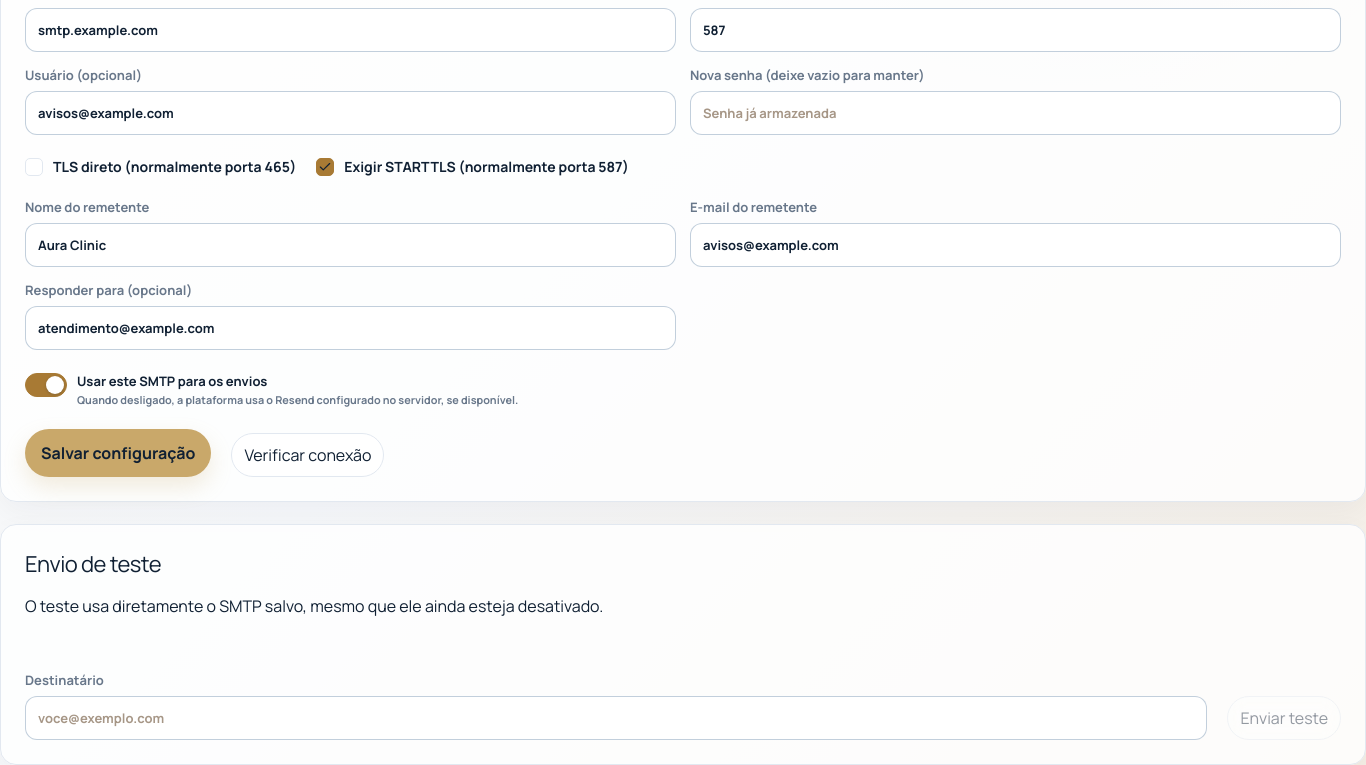
it: configuração SMTP da plataforma › carrega os dados sem devolver a senha e preserva a credencial ao salvar em branco
The image size is (1366, 765).
(page scrolled)
Expected: the password field labelled "Nova senha (deixe vazio para manter)" is empty, x1=690 y1=91 x2=1341 y2=135
Click the button "Salvar configuração".
click(118, 453)  # box x1=25 y1=429 x2=212 y2=477
(page scrolled)
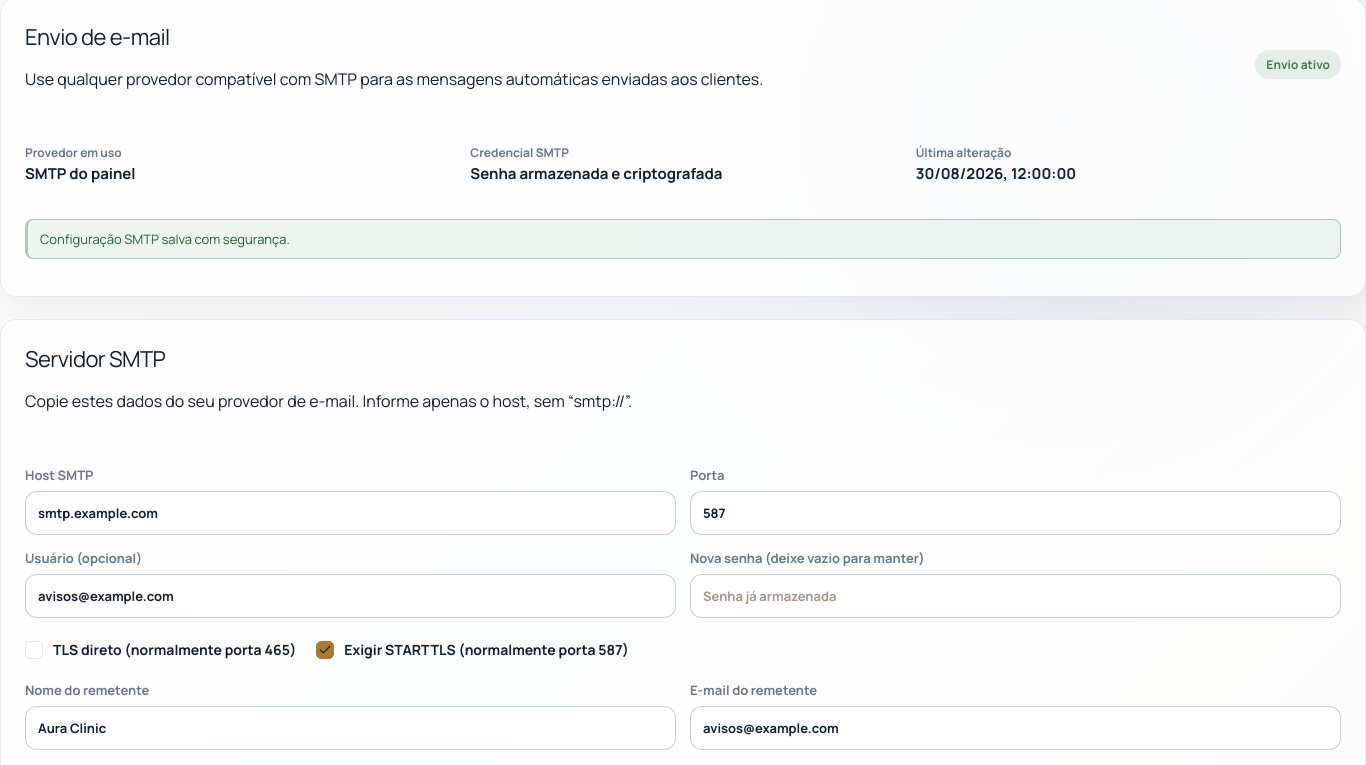
Now the text "Configuração SMTP salva com segurança." is shown, box x1=25 y1=219 x2=1341 y2=259
